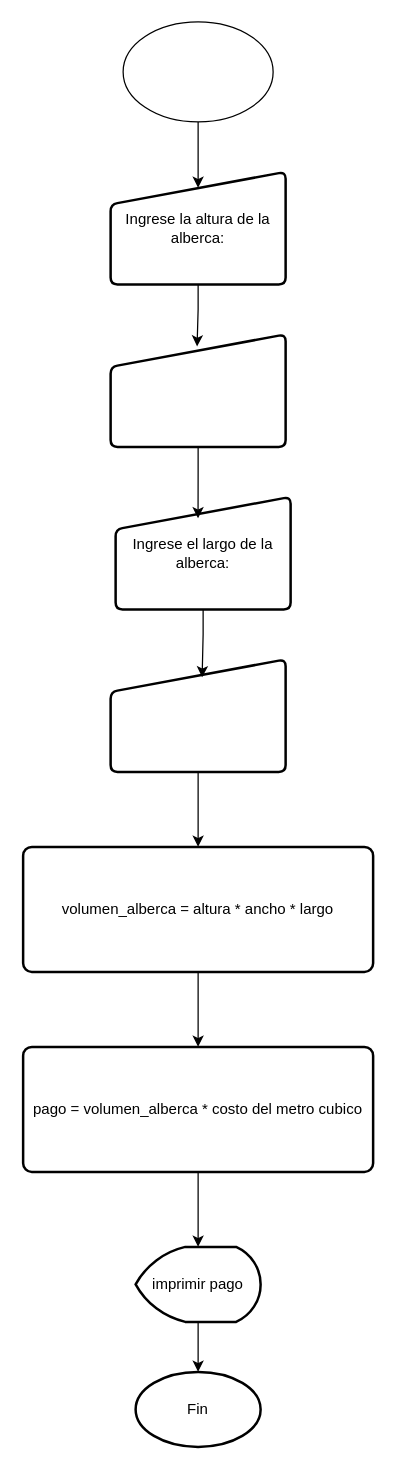
The diagram is 395 pixels wide and 1470 high, and some of its shapes have lost their labels. Here are the shapes that lost their labels. From the top down, the box of each, then its label:
(122, 21, 273, 122): inicio
(109, 332, 286, 448): Ingrese el ancho de la alberca:
(109, 658, 286, 772): Ingrese el costo del metro cubico:
